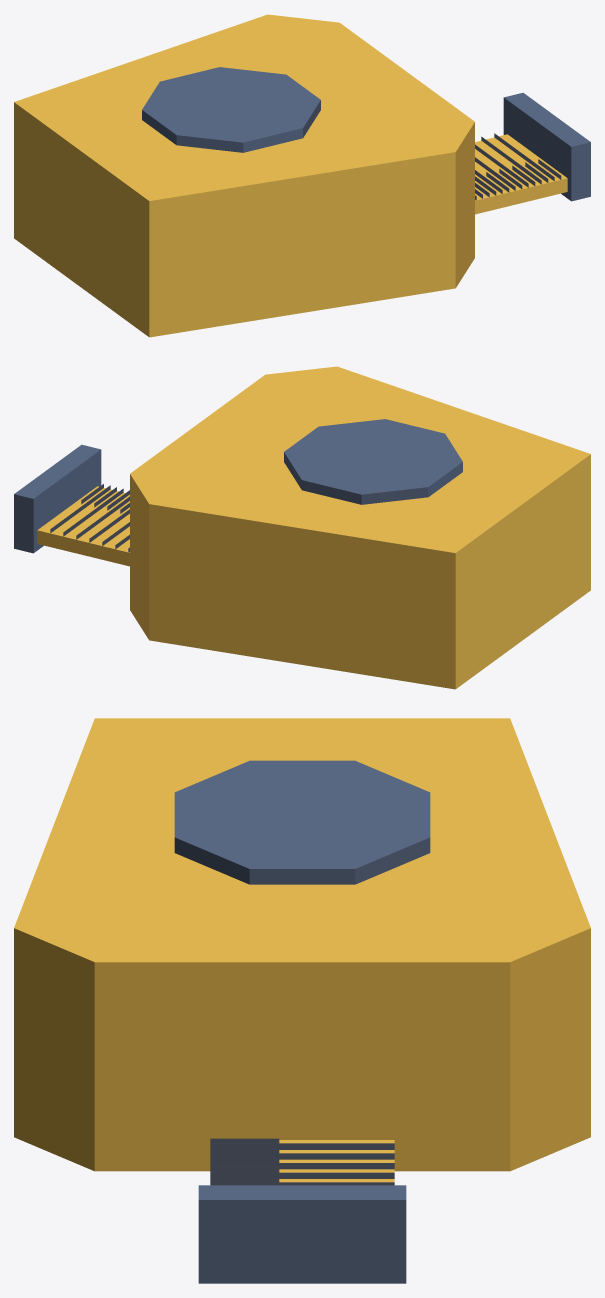
The model's file is tape_measure.glb.
The picture shows the model from 3 angles, top to bottom: view 1: azimuth 30°, elevation 25°; view 2: azimuth 150°, elevation 25°; view 3: azimuth 270°, elevation 25°; orthographic projection. The views are drawn at different scales.
Parts seen in each view (by area): view 1: housing, tape, tape_end; view 2: housing, tape, tape_end; view 3: housing, tape_end, tape.
Boxes of the visible parts, x1,y1,x2,y2 form: housing: [14, 14, 474, 337]; tape: [475, 133, 567, 214]; tape_end: [503, 92, 590, 201]; housing: [130, 366, 590, 689]; tape: [37, 484, 129, 566]; tape_end: [14, 444, 101, 553]; housing: [14, 718, 590, 1171]; tape_end: [198, 1185, 406, 1283]; tape: [210, 1138, 394, 1185].
Bounding box in the file's own units: 0.073 × 0.0215 × 0.05.
